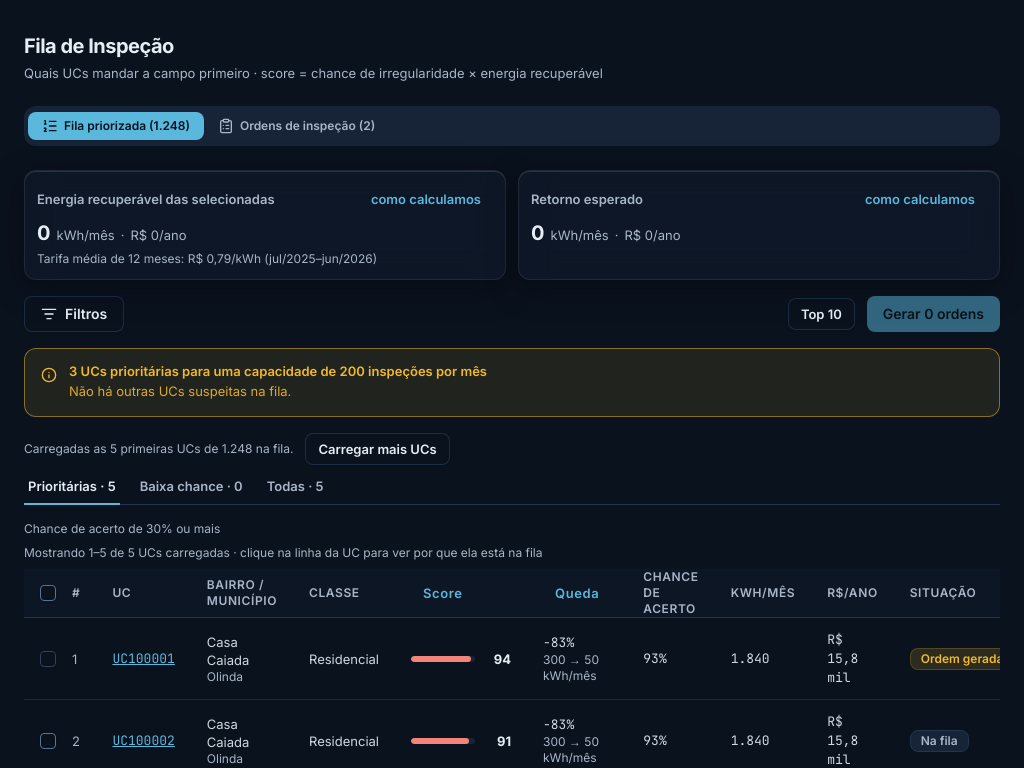
Test: Fila de Inspeção › atualiza o botão e os cartões conforme as UCs marcadas
Expected: the button "Gerar 0 ordens" is disabled, 867,296 -> 1000,332
Click the checkbox named "Selecionar UC100002" at (48, 740), box 40,732 -> 56,748
(page scrolled)
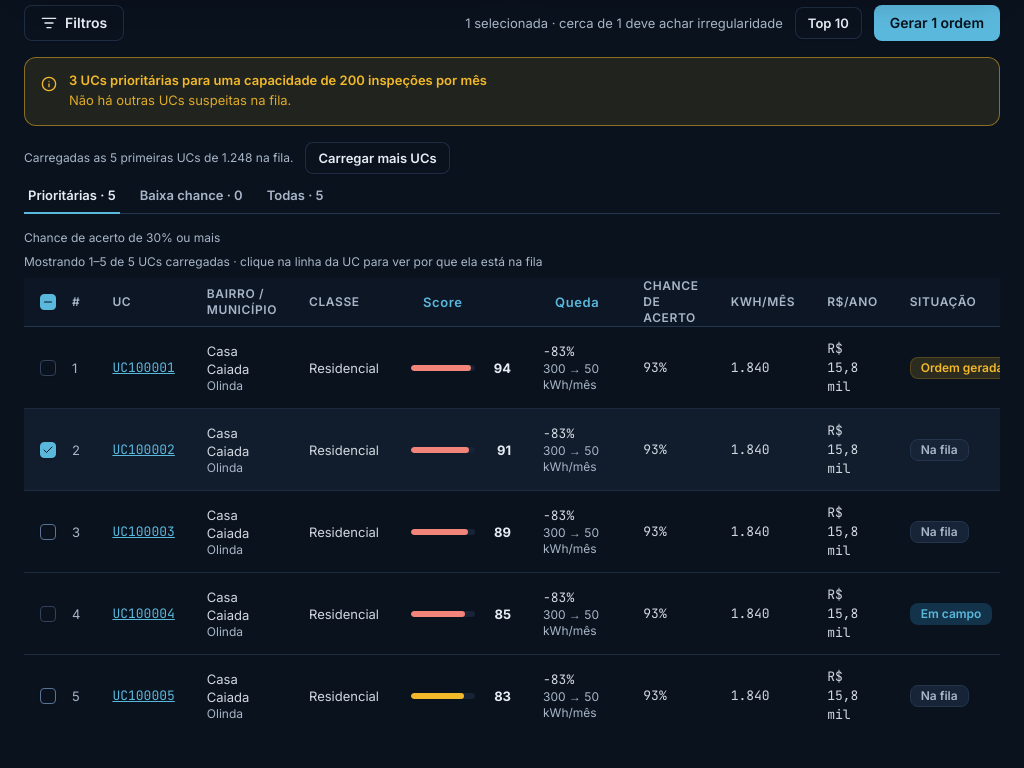
Click the checkbox named "Selecionar UC100003" at (48, 532), box 40,524 -> 56,540
(page scrolled)
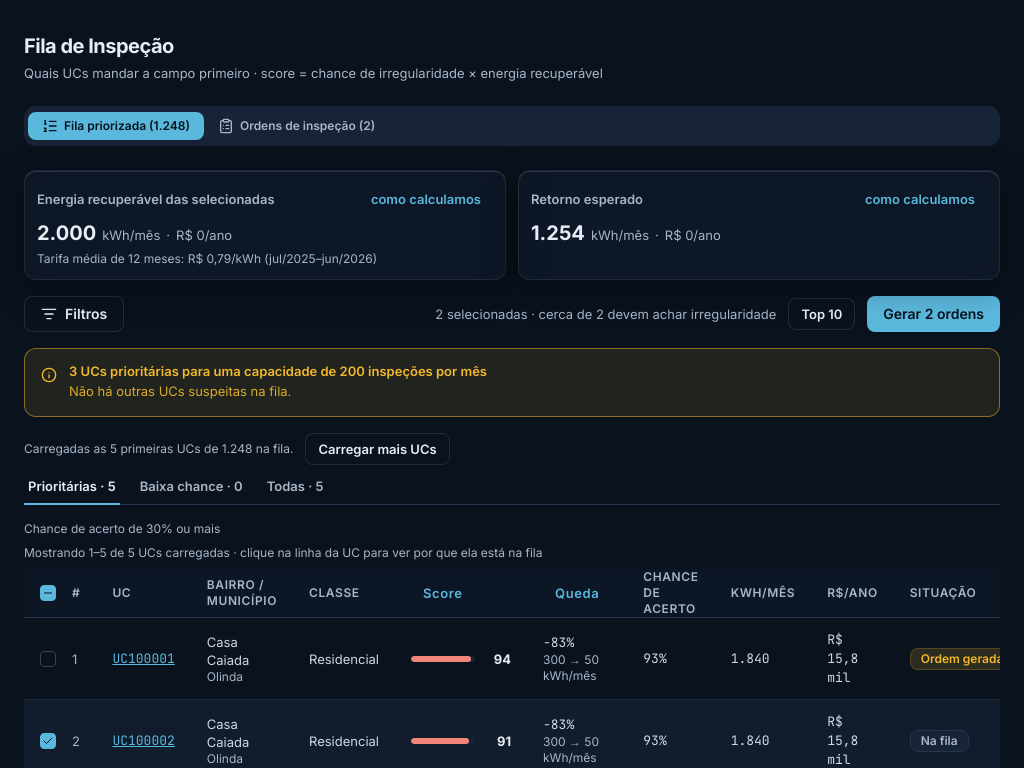
Result: the button "Gerar 2 ordens" is enabled at 867,296 -> 1000,332
Result: the text "2.000" is shown at 37,219 -> 96,247
Result: the text "1.254" is shown at 531,219 -> 585,247
